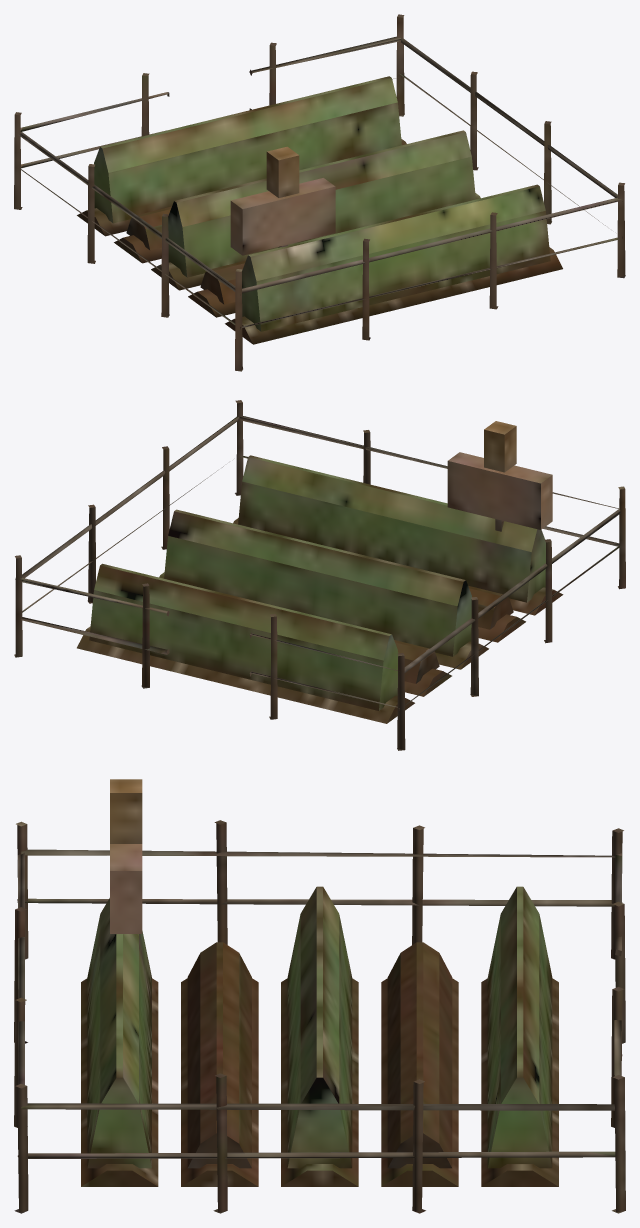
The model's file is b_field_xfar.glb.
3 renders of one model, top to bottom at view 1: azimuth 30°, elevation 25°; view 2: azimuth 150°, elevation 25°; view 3: azimuth 270°, elevation 25°, orthographic. The views are drawn at different scales.
Visible parts, largest first — view 1: b_field_xfar; view 2: b_field_xfar; view 3: b_field_xfar.
Boxes of the visible parts, x1=… form: b_field_xfar: x1=14, y1=14, x2=625, y2=371; b_field_xfar: x1=14, y1=400, x2=625, y2=750; b_field_xfar: x1=14, y1=779, x2=625, y2=1213.
Size of the model in its own units: 3.79 by 1.55 by 3.79.
Materials: 1 (1 with a texture image).
